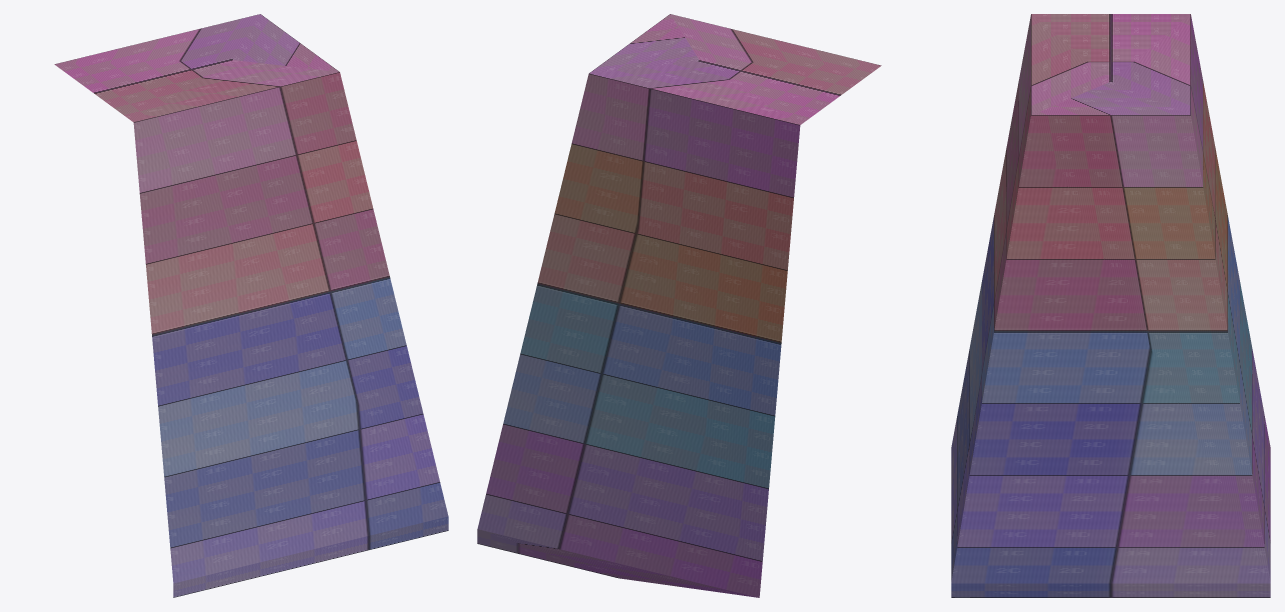
File: tile_wall_corner_thin.glb
3 renders of one model, left to right at view 1: azimuth 30°, elevation 25°; view 2: azimuth 150°, elevation 25°; view 3: azimuth 270°, elevation 25°, orthographic. The views are drawn at different scales.
Visible parts, largest first — view 1: tile_wall_corner_thin; view 2: tile_wall_corner_thin; view 3: tile_wall_corner_thin.
Part boxes in pixels (x1,y1,x2,y2): tile_wall_corner_thin: (54, 14, 448, 597); tile_wall_corner_thin: (477, 14, 881, 597); tile_wall_corner_thin: (951, 14, 1270, 597).
Bounding box in the file's own units: 2 × 3.1 × 2.
Materials: 1 (1 with a texture image).
